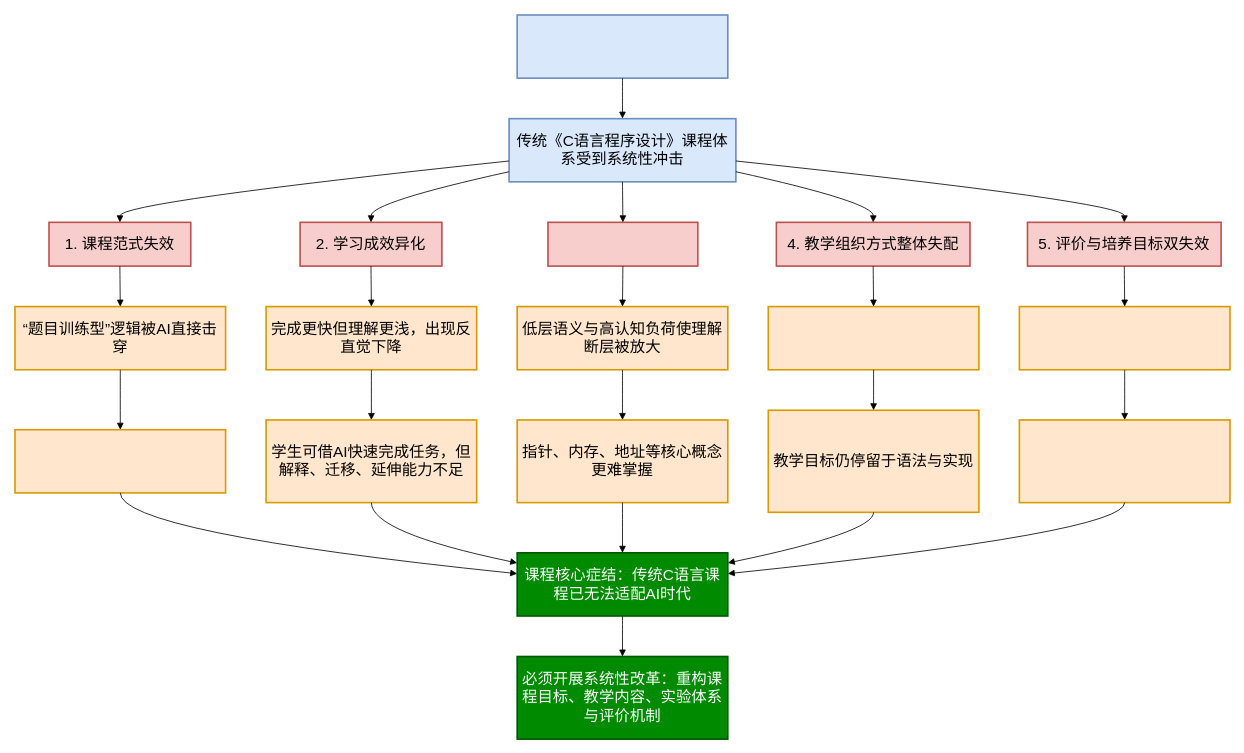
The diagram is 1244 pixels wide and 753 high, and some of its shapes have lost their labels. Each missing label, with the centre of its shape:
"3. C语言特殊危机" belongs at pixel 622 243.
"AI代码生成工具广泛进入C语言学习场景" belongs at pixel 622 46.
"传统习题、实验、提交结果不再具有能力区分度" belongs at pixel 120 460.
"作业、实验、笔试难区分“学生能力”与“AI结果”" belongs at pixel 1124 461.
"既测不准真实能力，也难对接产业需求" belongs at pixel 1124 337.
"知识结构、实验设计与AI规范均未完成转型" belongs at pixel 873 337.
